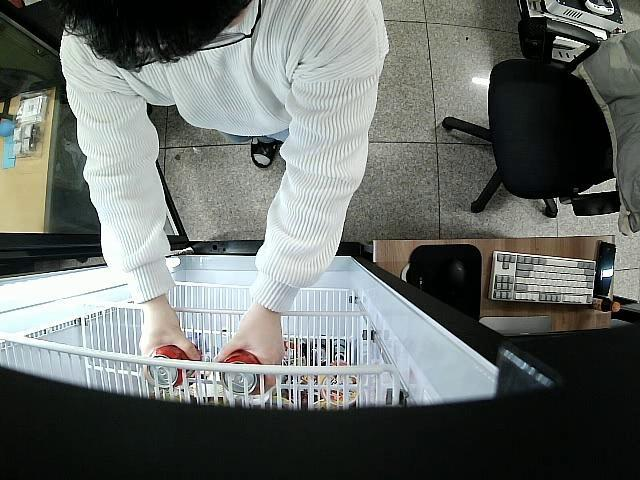11_cocaColaZero: (148, 345, 201, 390), (220, 350, 265, 397)
